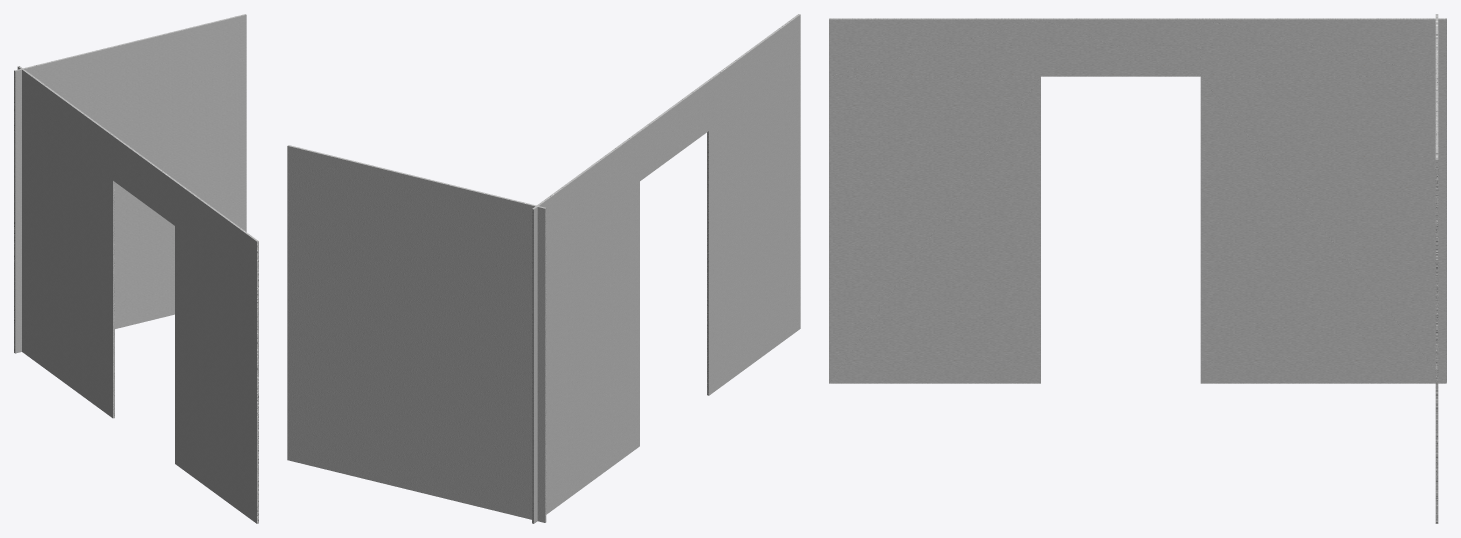
The model's file is wall6.fbx.
The picture shows the model from 3 angles, left to right: view 1: azimuth 30°, elevation 25°; view 2: azimuth 150°, elevation 25°; view 3: azimuth 270°, elevation 25°; orthographic projection. The views are drawn at different scales.
Visible parts, largest first — view 1: polySurface52, polySurface58; view 2: polySurface58, polySurface52; view 3: polySurface52, polySurface58.
Part boxes in pixels (box(x1,y1,x2,y2)): polySurface52: box(17, 66, 258, 523); polySurface58: box(14, 14, 246, 353); polySurface58: box(287, 145, 546, 522); polySurface52: box(532, 14, 800, 523); polySurface52: box(829, 18, 1446, 383); polySurface58: box(1435, 14, 1438, 523).
Size of the model in its own units: 2.58 by 3 by 4.61.
Materials: 1 (1 with a texture image).
